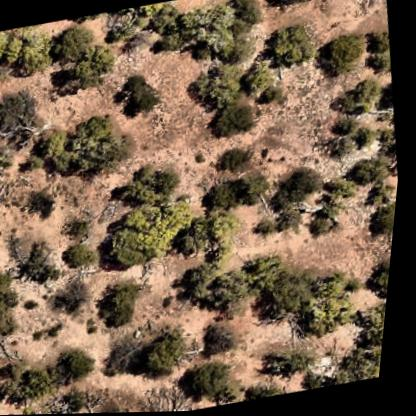tree-top: (34, 110, 133, 186), (98, 192, 195, 269), (292, 267, 369, 341), (262, 265, 324, 327), (187, 54, 251, 114), (197, 263, 264, 318), (265, 19, 318, 73), (317, 28, 372, 80), (142, 329, 198, 379), (13, 23, 60, 82), (60, 41, 115, 91), (176, 0, 230, 49), (99, 280, 150, 331), (273, 165, 327, 213), (0, 82, 44, 140), (47, 18, 96, 69), (103, 4, 152, 54), (185, 358, 238, 404), (205, 315, 254, 364), (18, 362, 68, 407), (207, 100, 258, 143), (246, 251, 295, 295), (359, 302, 393, 362), (175, 219, 220, 263), (24, 181, 68, 225), (205, 203, 249, 245), (333, 81, 379, 120), (346, 74, 388, 116), (22, 235, 60, 281), (363, 25, 396, 77), (0, 284, 28, 341), (122, 80, 162, 118), (64, 345, 105, 381), (351, 155, 390, 190), (0, 25, 32, 67), (369, 256, 396, 305), (326, 134, 363, 169), (146, 24, 186, 56), (63, 237, 99, 272), (145, 165, 184, 197), (207, 180, 242, 213), (147, 5, 181, 37), (370, 204, 400, 240), (328, 174, 362, 205), (240, 173, 274, 204), (218, 145, 253, 175), (239, 66, 269, 97), (122, 69, 152, 100), (251, 212, 283, 241), (310, 211, 341, 239), (291, 350, 322, 378), (246, 382, 287, 403), (69, 213, 98, 240), (352, 126, 383, 151), (257, 83, 286, 109), (227, 0, 258, 24), (190, 40, 217, 66), (376, 102, 399, 131), (69, 387, 93, 412), (0, 145, 13, 185), (0, 269, 19, 295), (305, 373, 328, 392), (3, 407, 52, 415), (275, 0, 316, 8), (106, 409, 127, 414), (287, 0, 318, 3)
